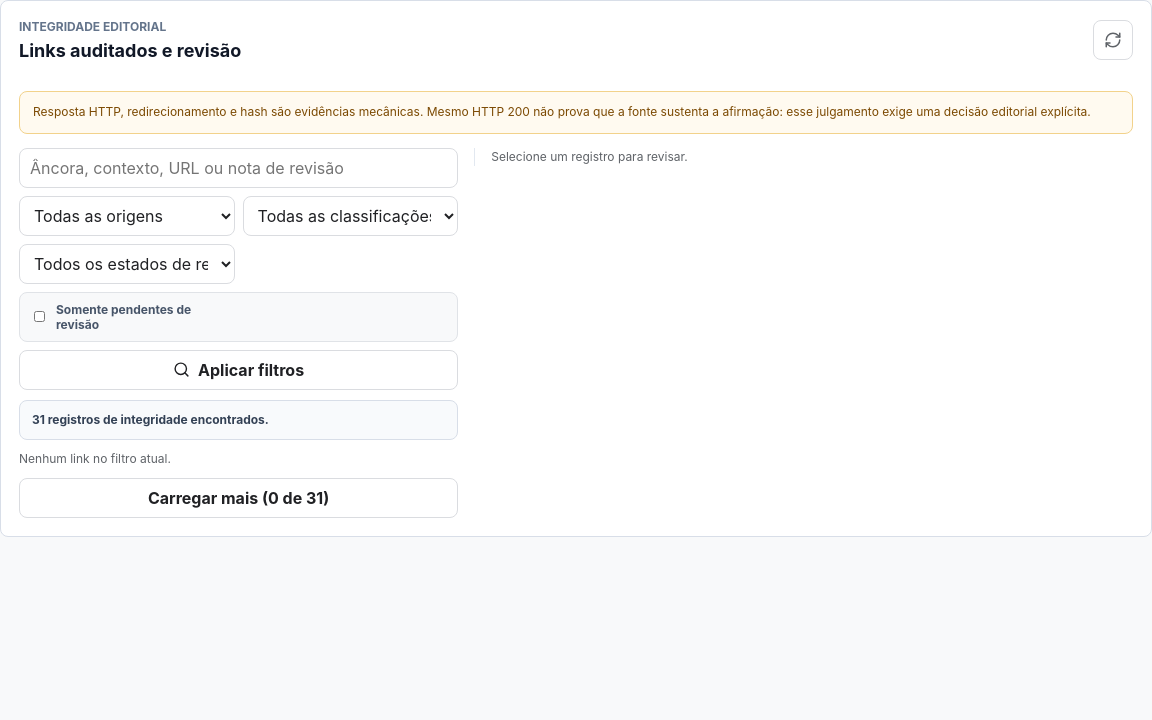
Test case: LinkIntegrityPanel › does not retain the previous cursor if the new filtered query fails
Expected: the button "Carregar mais (0 de 31)" is shown, top-left (19, 478), bottom-right (458, 518)
Select "MainSite PostEditor" in the dropdown named "Filtrar por origem do link" at [127, 216], box top-left (19, 196), bottom-right (235, 236)
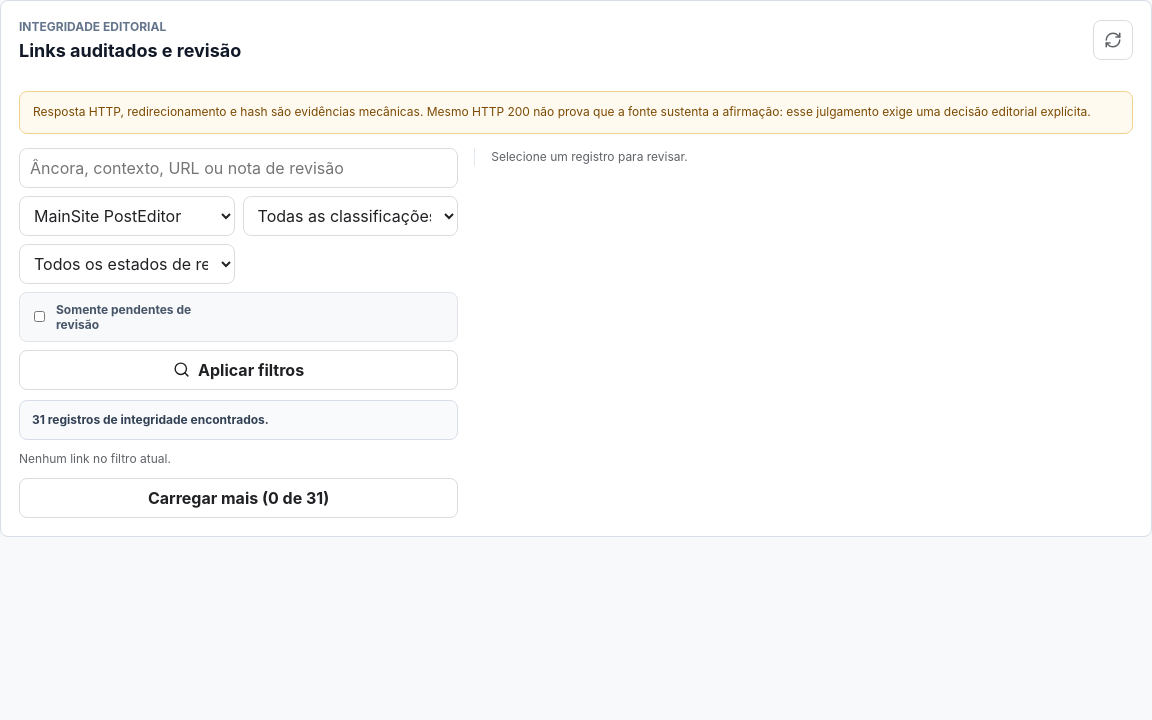
Click the button "Aplicar filtros" at [239, 370], box top-left (19, 350), bottom-right (458, 390)
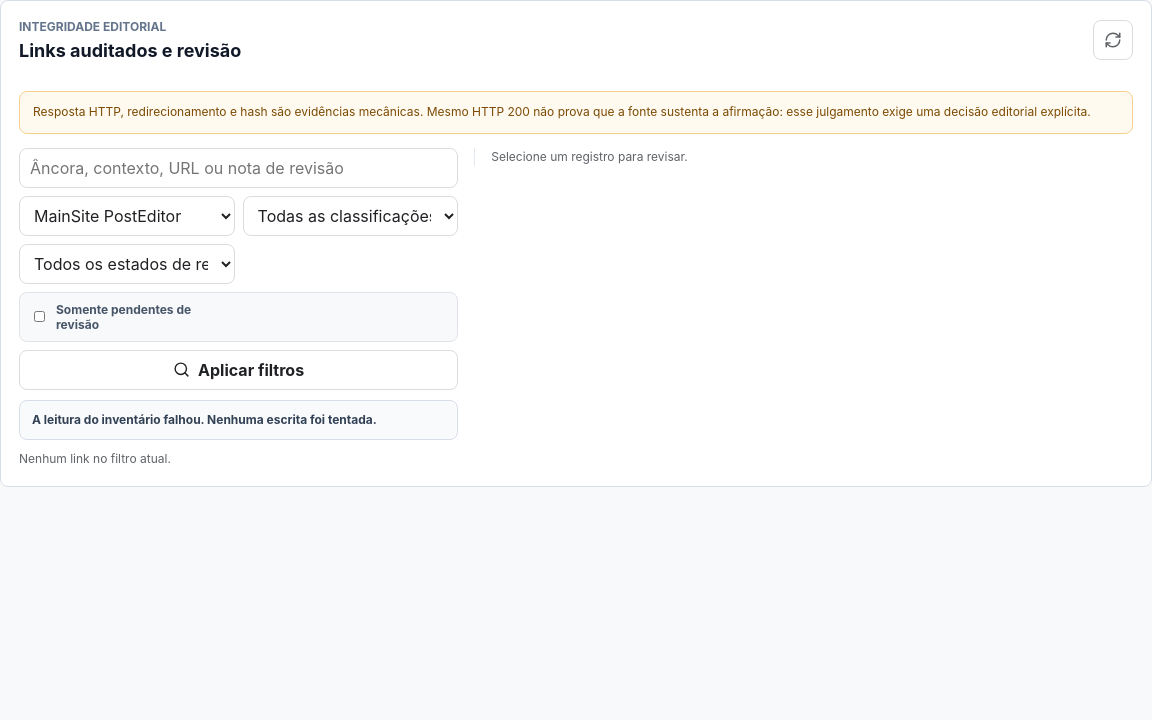
Expected: the text "A leitura do inventário falhou. Nenhuma escrita foi tentada." is shown, top-left (19, 400), bottom-right (458, 440)
Expected: the button "Carregar mais" is gone
